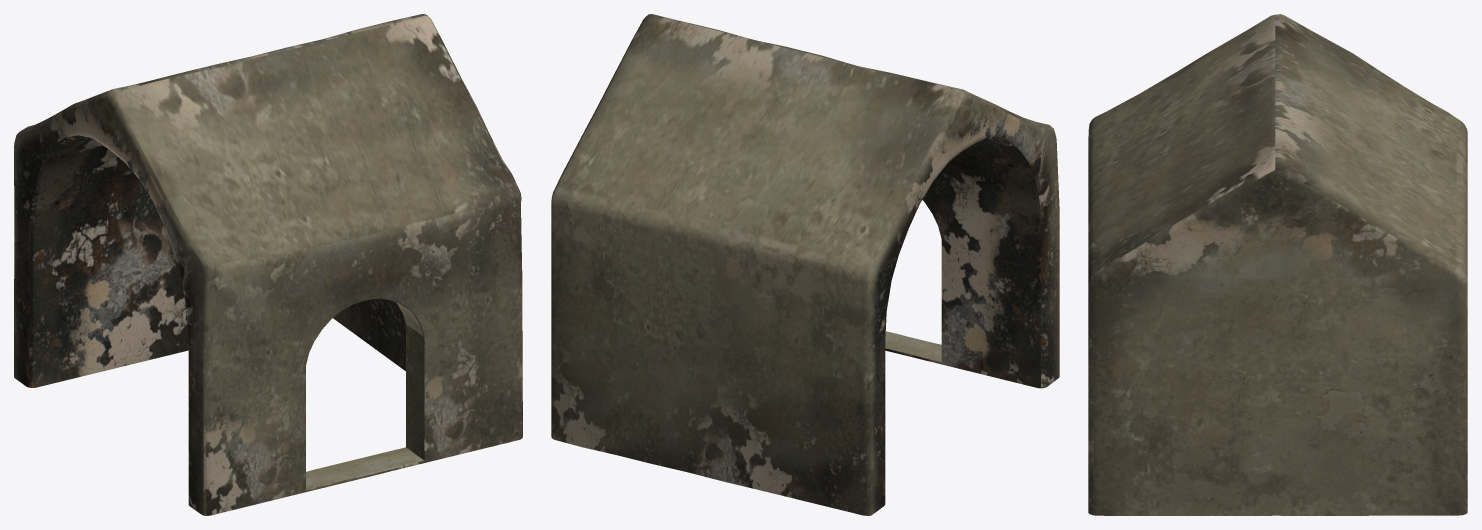
Rendered from Room_G_Forge.gltf.
3 renders of one model, left to right at view 1: azimuth 30°, elevation 25°; view 2: azimuth 150°, elevation 25°; view 3: azimuth 270°, elevation 25°, orthographic.
Parts seen in each view (by area): view 1: Room_G_Forge_Plane.018; view 2: Room_G_Forge_Plane.018; view 3: Room_G_Forge_Plane.018.
Boxes of the visible parts, left/top/right/bottom form: Room_G_Forge_Plane.018: left=14, top=14, right=522, bottom=515; Room_G_Forge_Plane.018: left=551, top=14, right=1059, bottom=515; Room_G_Forge_Plane.018: left=1088, top=14, right=1467, bottom=515.
Bounding box in the file's own units: 0.7103 × 0.7487 × 0.7352.
1 material, 1 textured.
